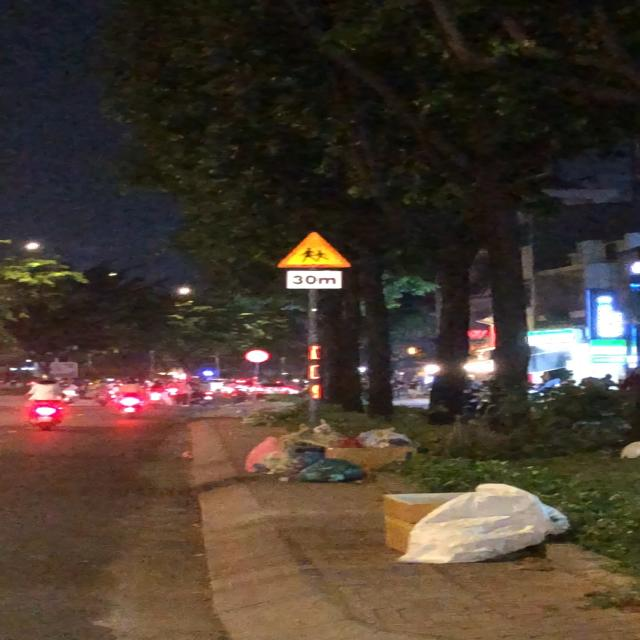Bien bao tre em: (275, 229, 354, 269)
